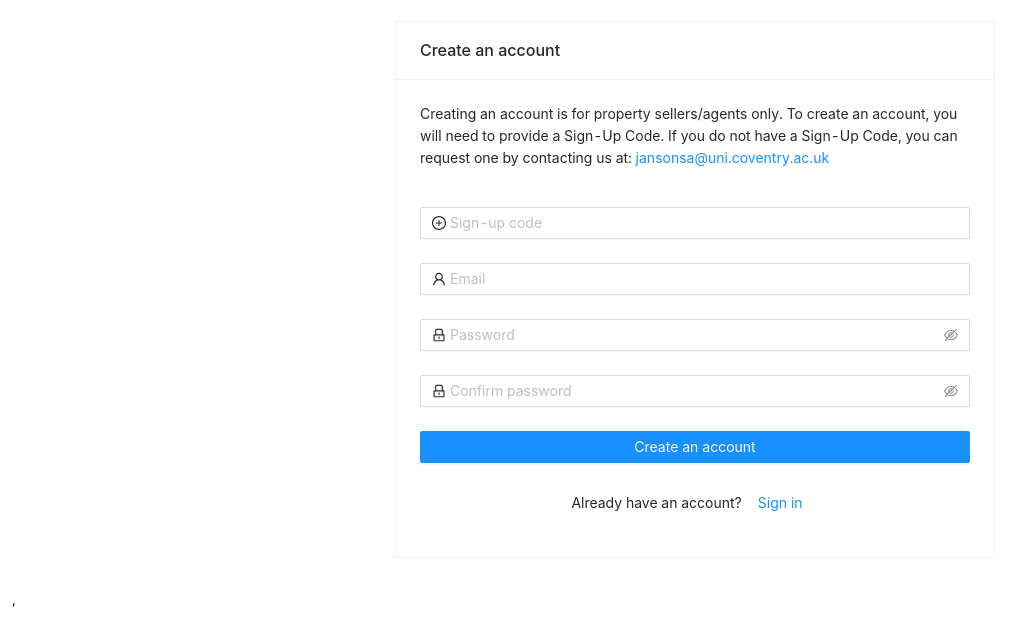
Test case: when user registers, success message is displayed
Type "test sign-up code" into the field with placeholder "Sign-up code" at (704, 223), box x1=450 y1=212 x2=958 y2=234
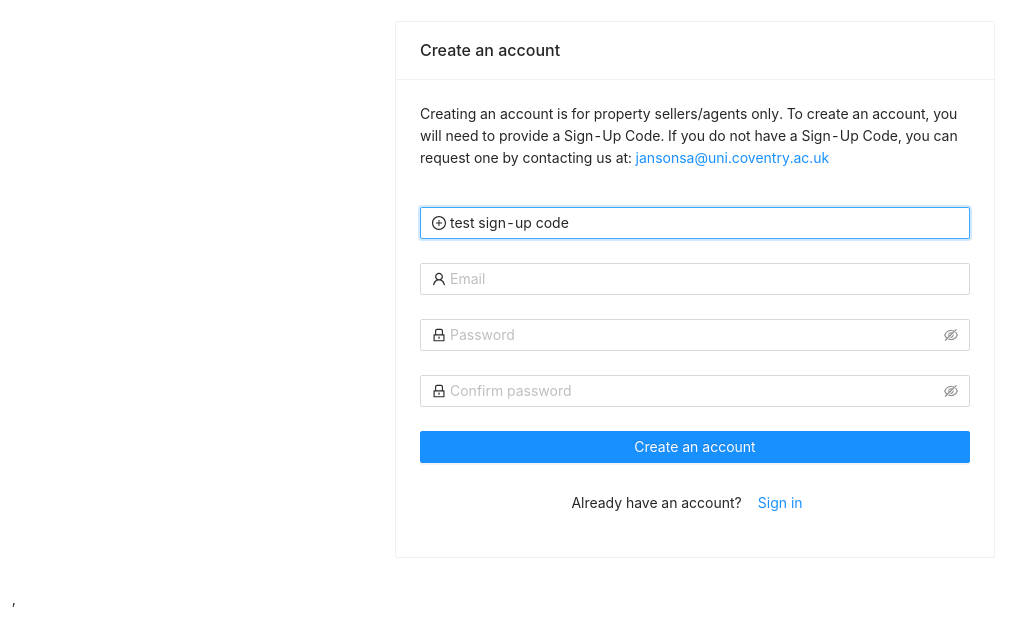
Type "user@email.com" into the field with placeholder "Email" at (704, 279), box x1=450 y1=268 x2=958 y2=290
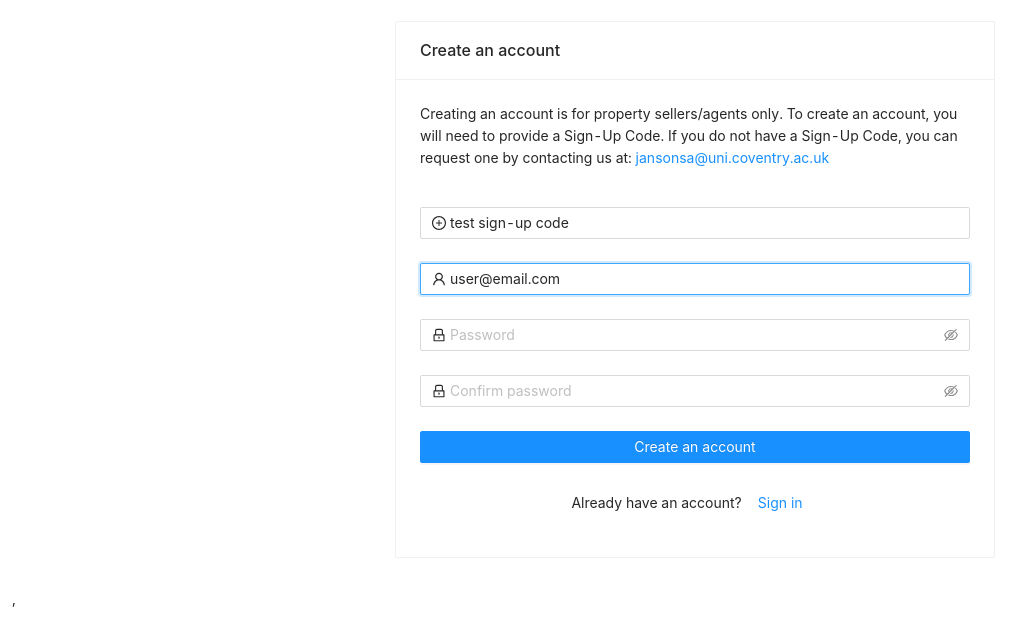
Type "password" into the password field with placeholder "Password" at (695, 335), box x1=450 y1=324 x2=940 y2=346
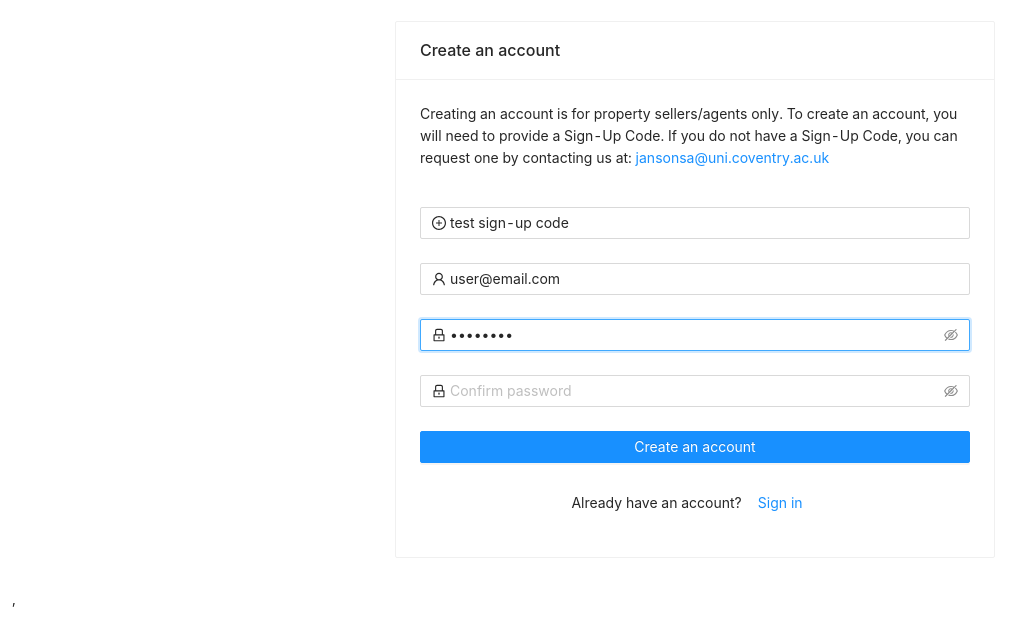
Type "password" into the password field with placeholder "Confirm password" at (695, 391), box x1=450 y1=380 x2=940 y2=402
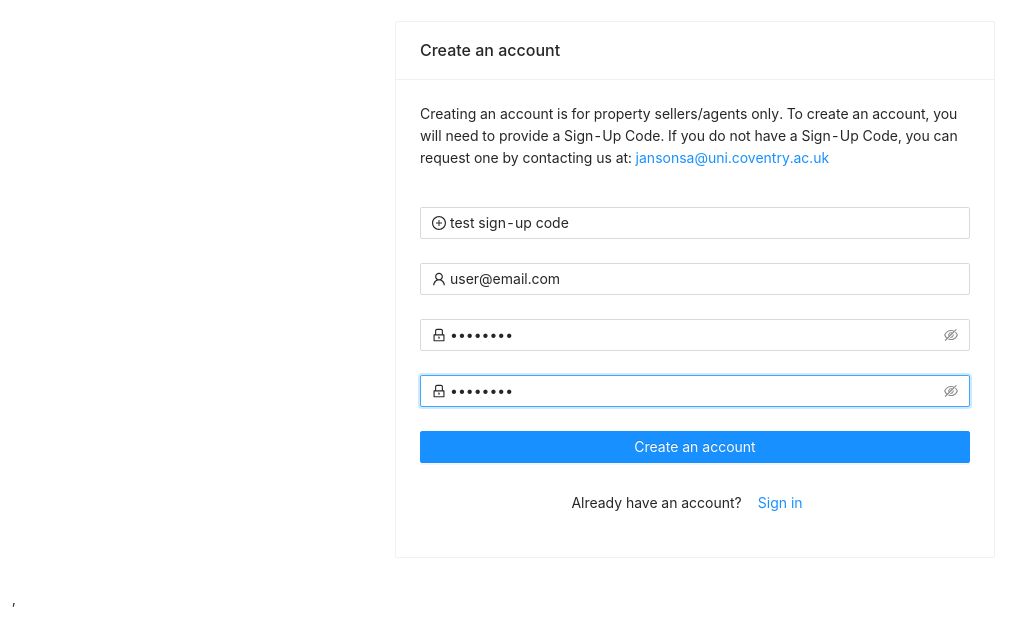
Click the submit button at (695, 447), box x1=420 y1=431 x2=970 y2=463
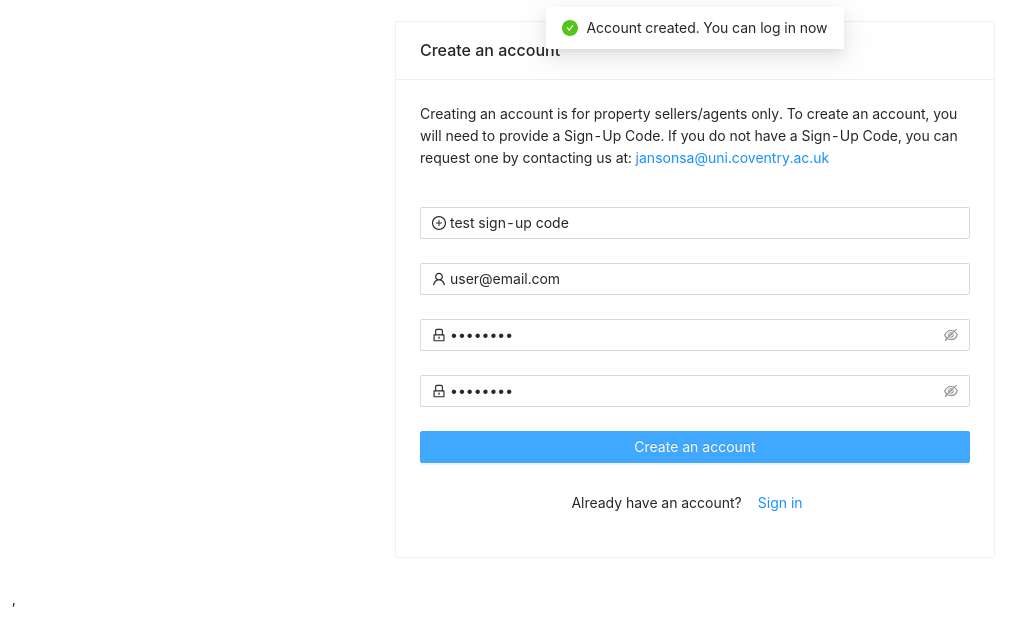
Check: the text "Account created. You can log in now" is shown, box x1=586 y1=19 x2=828 y2=36
